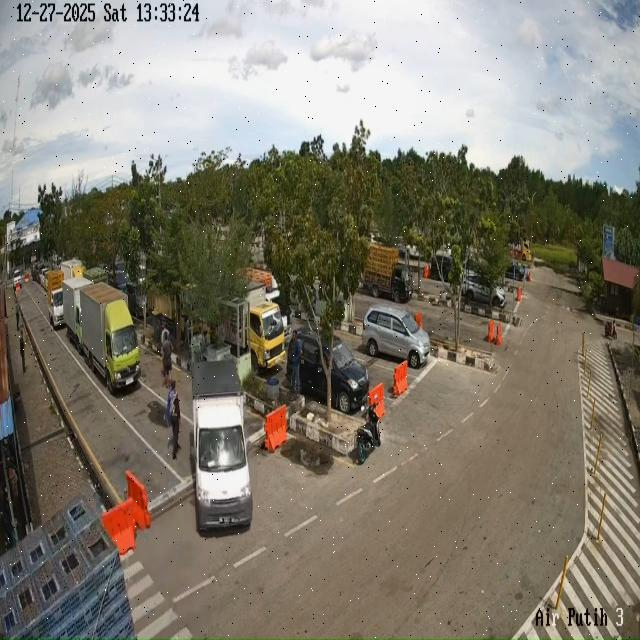Golongan IVA: (286, 328, 370, 414), (362, 305, 430, 369), (462, 271, 506, 308), (505, 262, 526, 281)
Golongan IVB: (363, 243, 413, 303), (46, 270, 64, 328)
Golongan VB: (191, 359, 253, 530), (80, 282, 140, 394), (222, 281, 286, 371), (62, 277, 92, 353)
